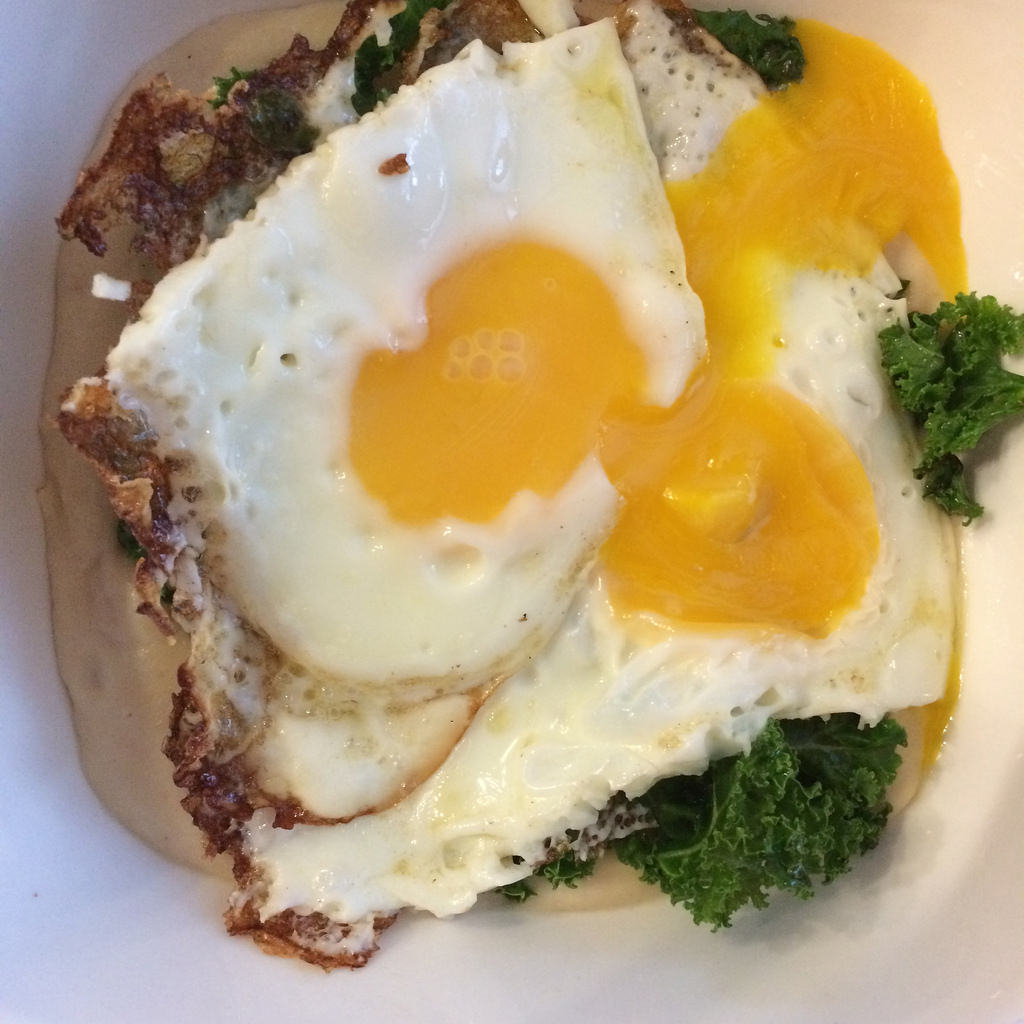fried egg: (158, 150, 870, 778)
